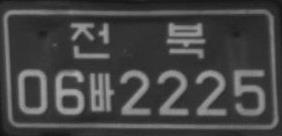0: (17, 68, 48, 115)
2: (156, 69, 190, 116), (119, 68, 151, 116), (195, 68, 226, 117)
5: (231, 68, 266, 116)
6: (54, 67, 85, 116)
바: (88, 72, 114, 112)
전북_D: (69, 21, 205, 59)
